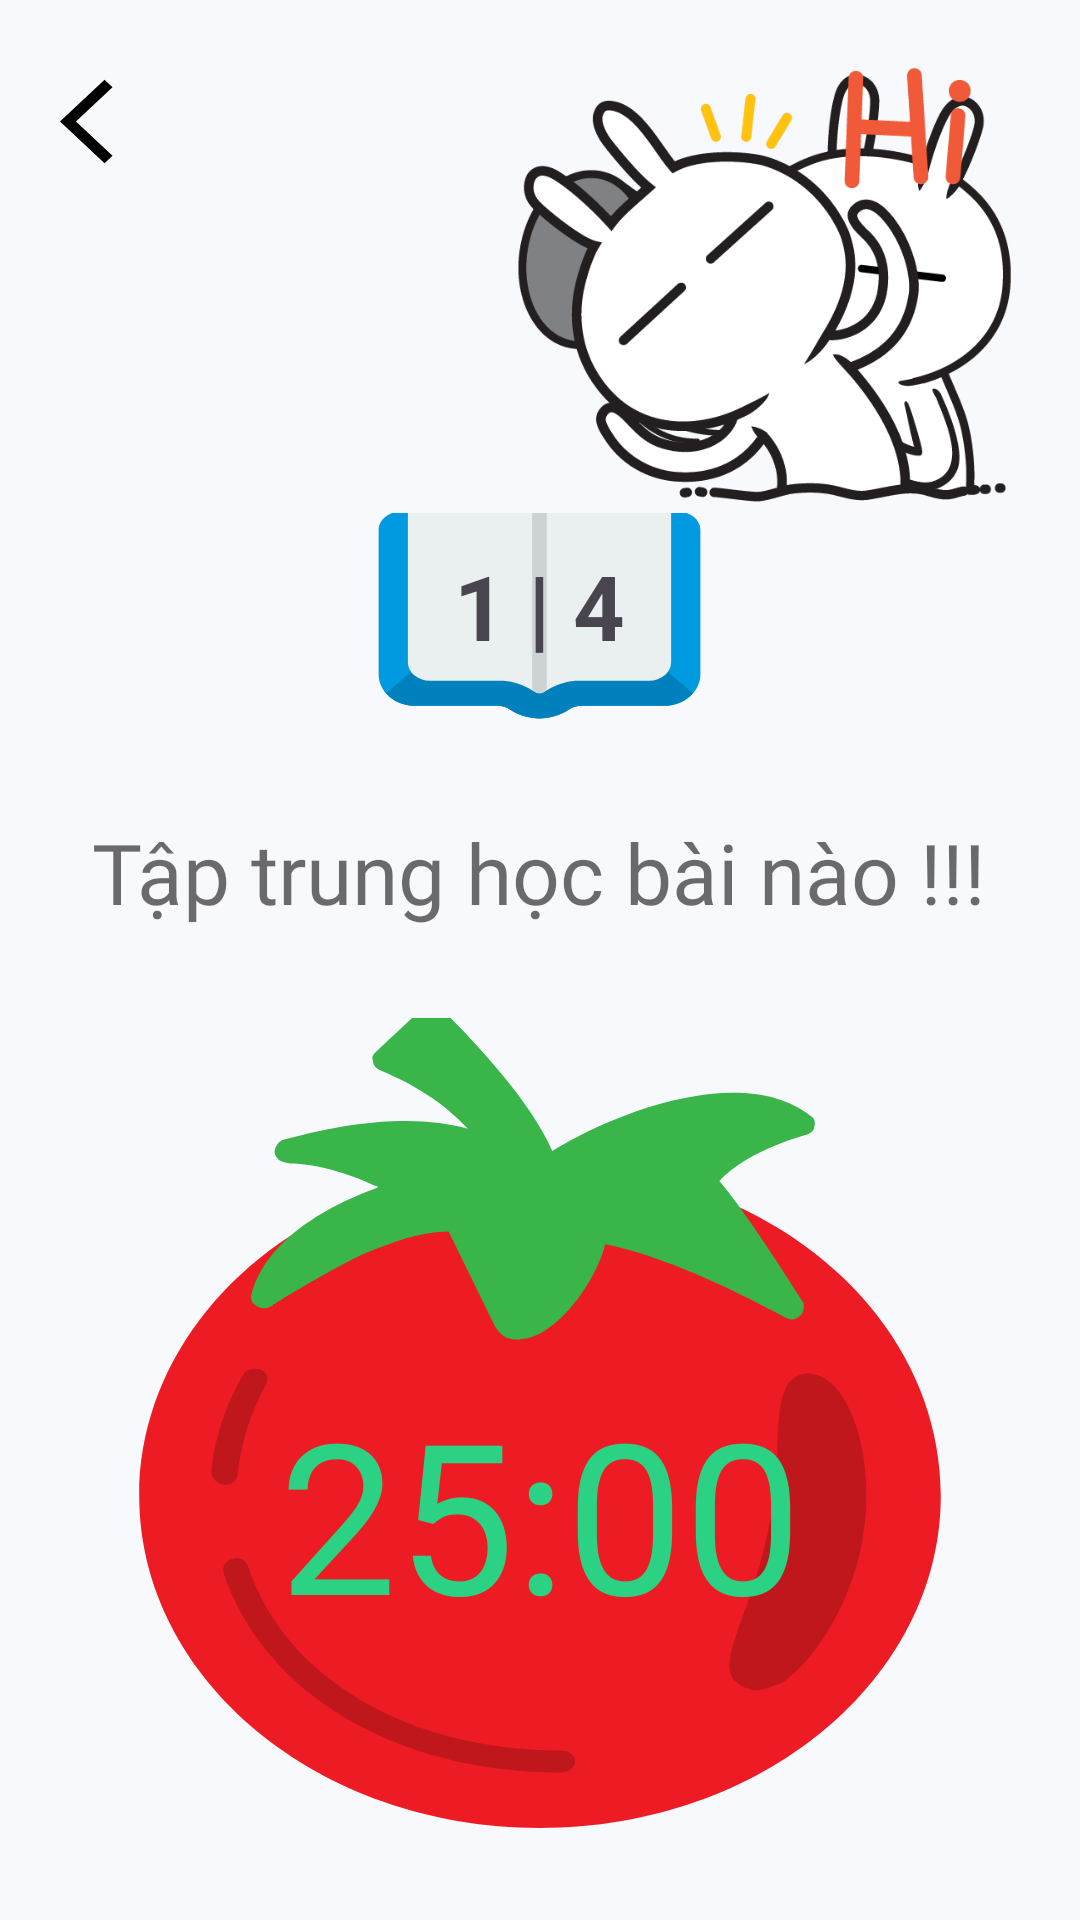

Point at icon controls on the screen. Image size 1080 × 1920, points as (x,y).
arrow back: (86,121)
